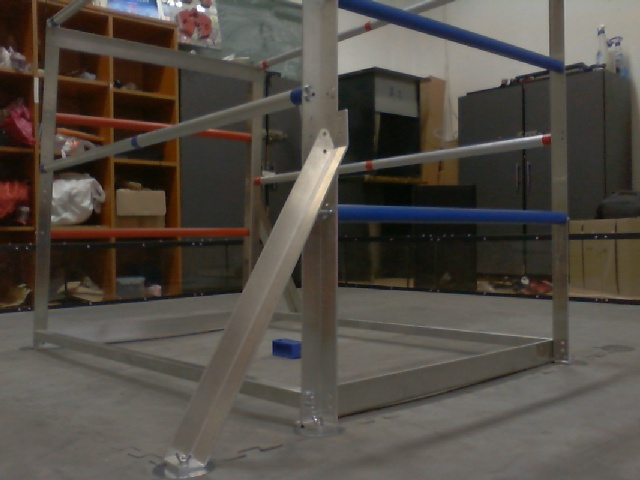BlueSample: (272, 334, 303, 363)
